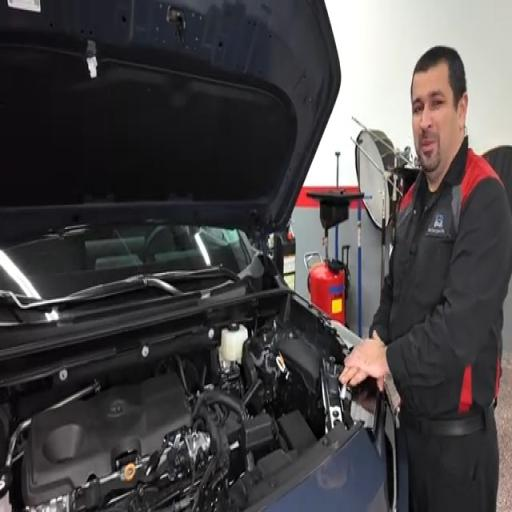hood: (0, 0, 340, 236)
windshield: (0, 224, 251, 298)
